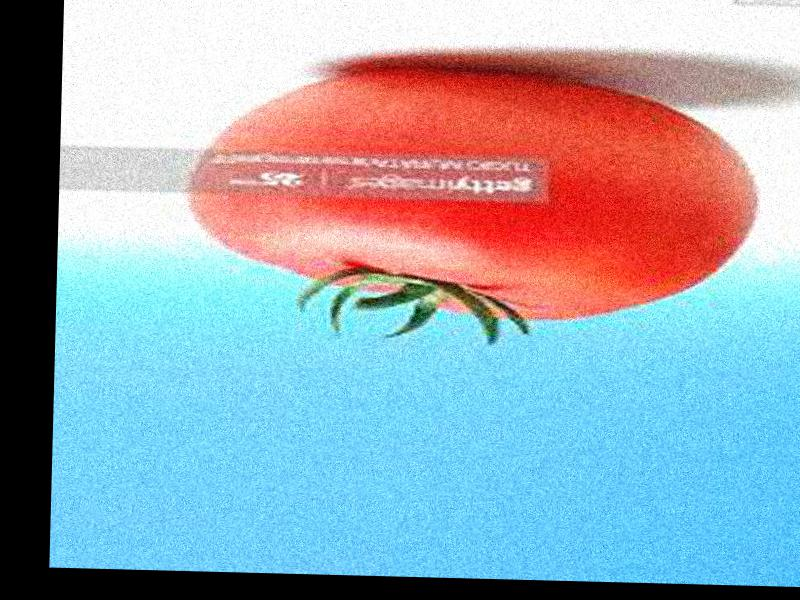Tomato: (182, 66, 756, 324)
